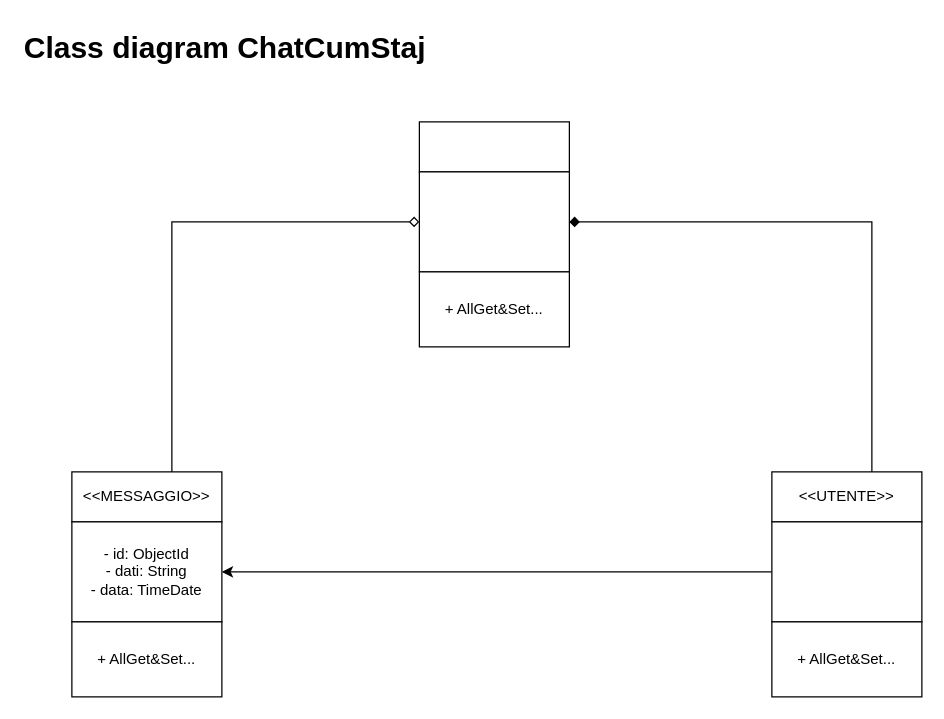
Image size: 944x719. Some labels were removed from this diagram. The shapes that lost their labels are listed below. From the top down, each one's centre as x and y in pixels, then its label:
At [493,146]: "<<STANZA>>".
At [493,221]: "- id: ObjectId - codice:String - titolo: String - descrizione: String".
At [846,571]: "- username: String - password: String".
